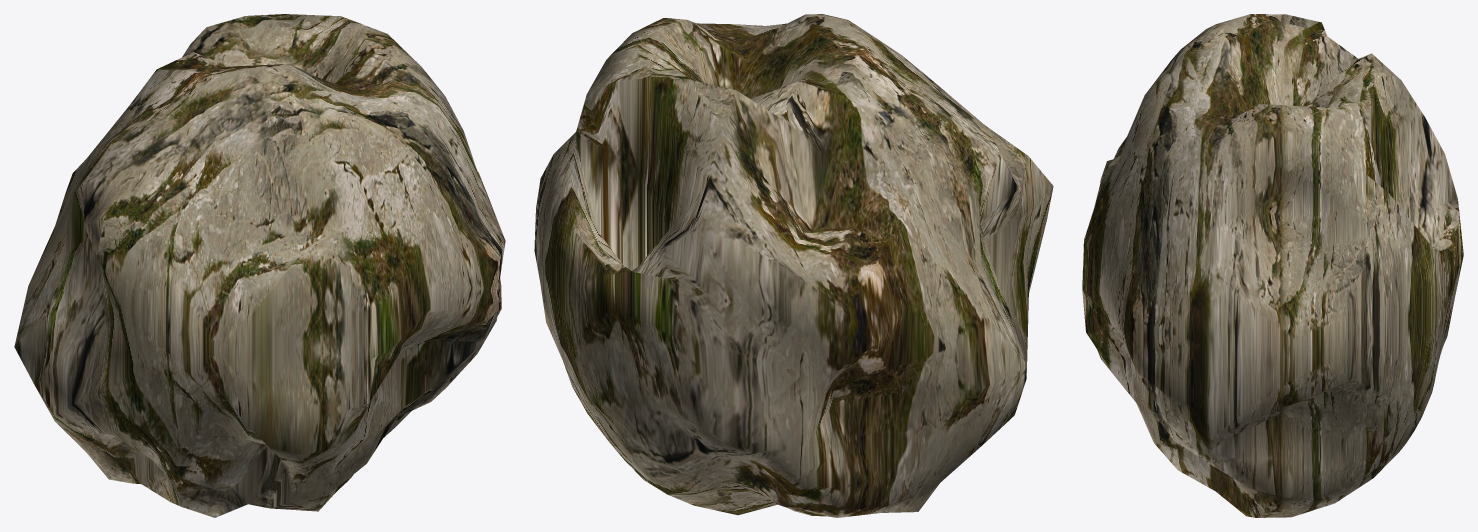
File: colObj04.FBX
3 renders of one model, left to right at view 1: azimuth 30°, elevation 25°; view 2: azimuth 150°, elevation 25°; view 3: azimuth 270°, elevation 25°, orthographic. The views are drawn at different scales.
Visible parts, largest first — view 1: colObj04; view 2: colObj04; view 3: colObj04.
Boxes of the visible parts, bbox=[...] form: colObj04: bbox=[14, 14, 505, 517]; colObj04: bbox=[534, 14, 1053, 517]; colObj04: bbox=[1082, 14, 1463, 517].
Bounding box in the file's own units: 48.59 × 36.26 × 47.86.
1 material, 1 textured.
